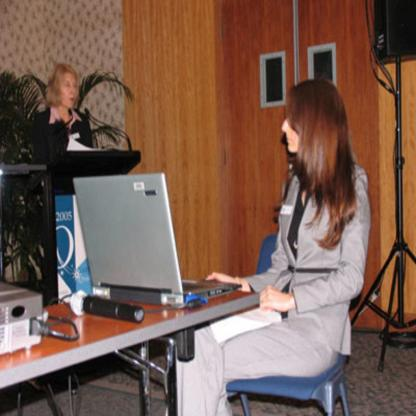board: (53, 166, 265, 344)
